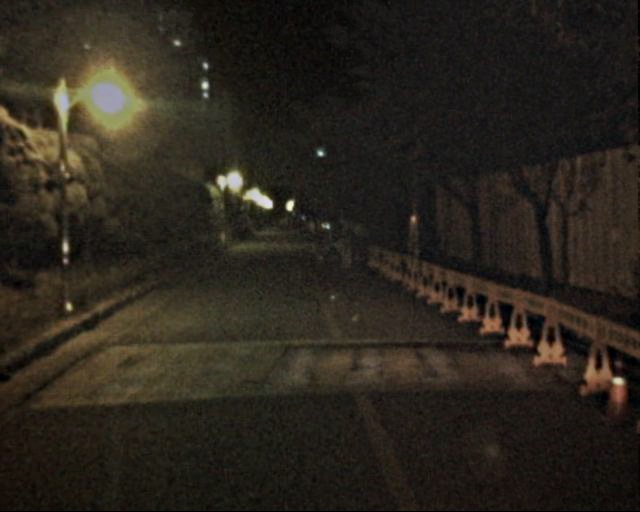person: (335, 217, 358, 273), (348, 224, 369, 276), (322, 220, 340, 264), (309, 220, 326, 262)
